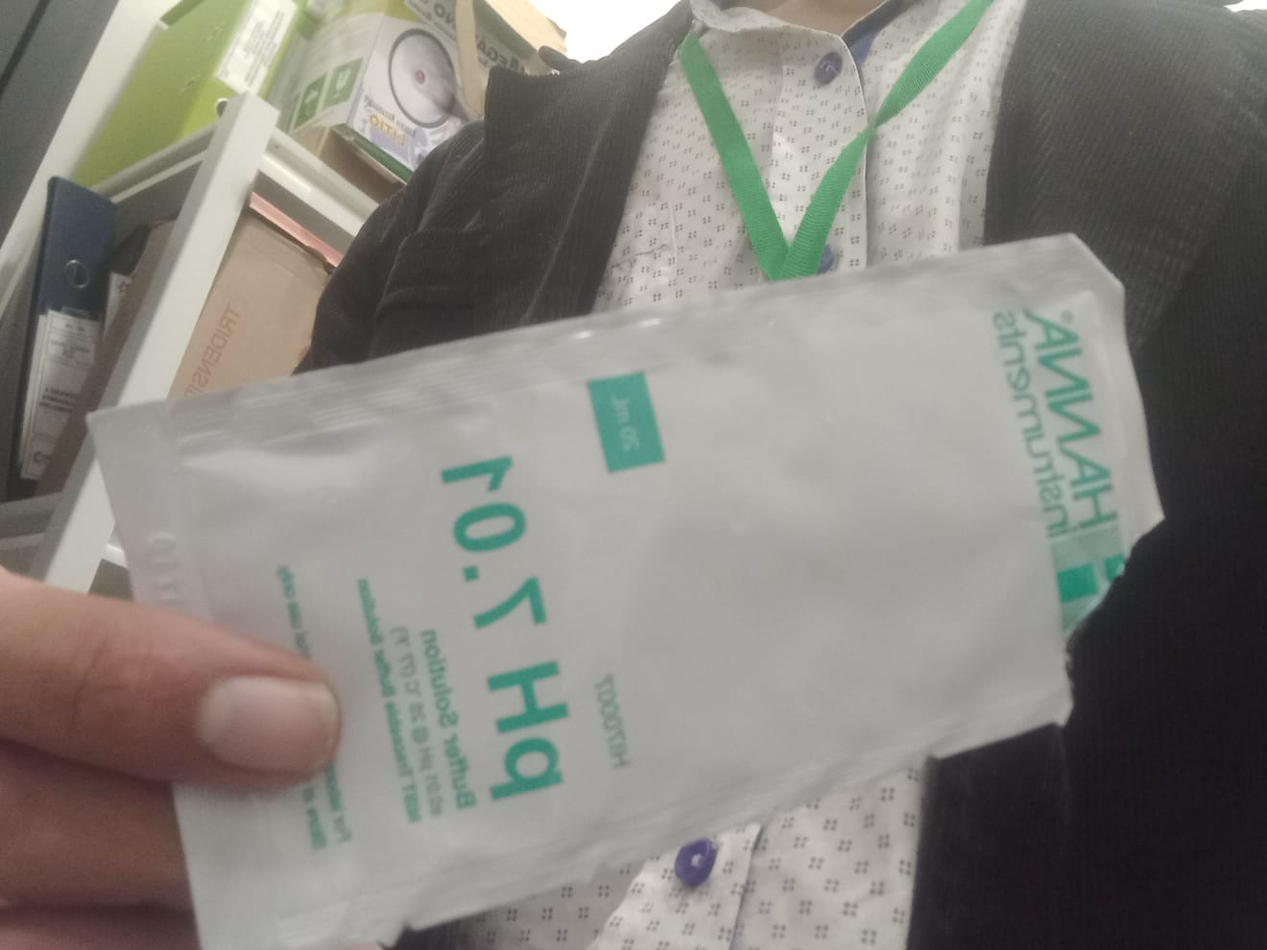Ordinario: (87, 231, 1166, 950)
